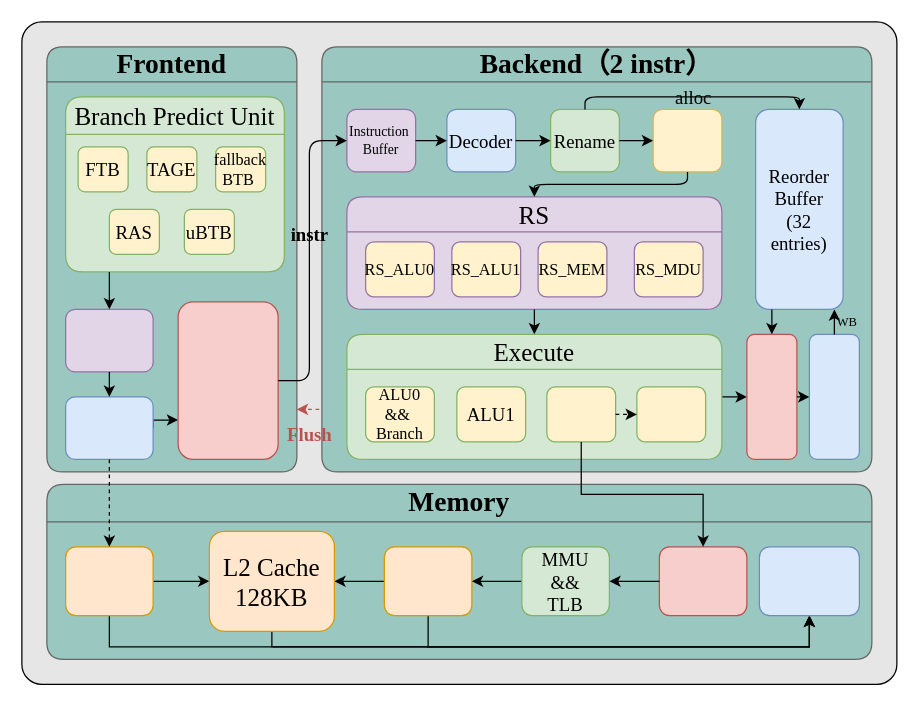
This 919x706 diagram has some shape labels left out. The centre of each missing label's shape, as x and y in pixels:
"ARF" belongs at point 833,396.
"AXI bridge" belongs at point 808,581.
"commit && flush" belongs at point 771,396.
"Dispatch" belongs at point 687,140.
"FTQ" belongs at point 108,340.
"IFU" belongs at point 108,427.
"L1 DCache" belongs at point 427,581.
"L1 ICache" belongs at point 108,581.
"LSU" belongs at point 581,414.
"MDU" belongs at point 671,414.
"Pre decoder" belongs at point 227,380.
"STQ && SB" belongs at point 702,581.
